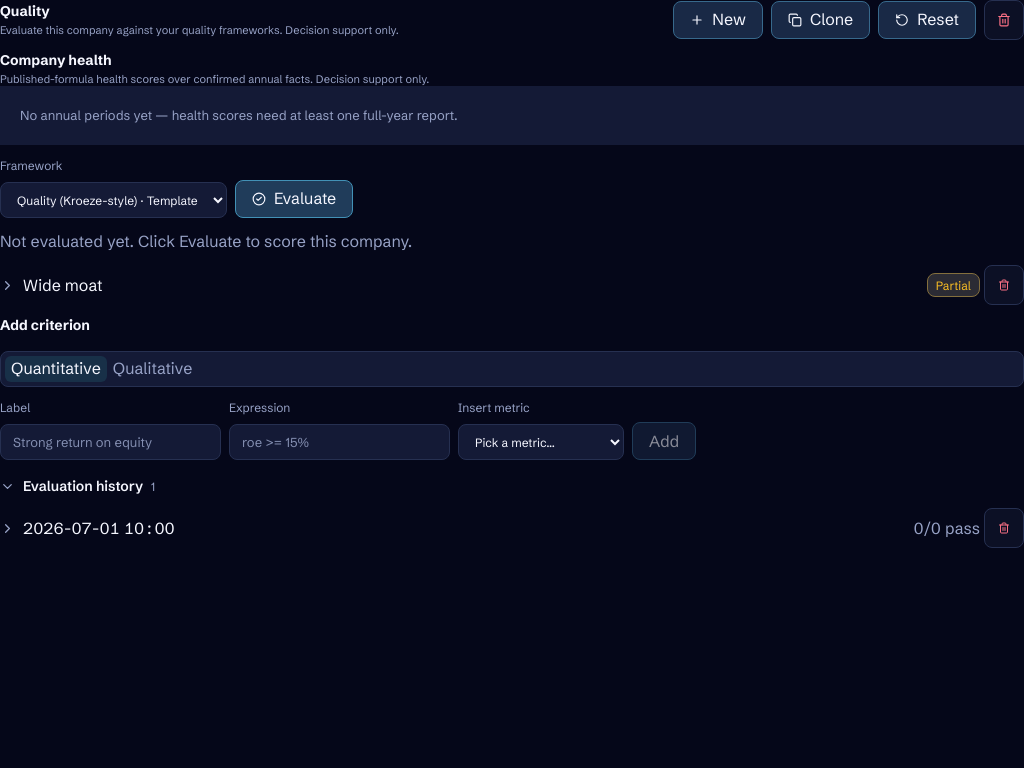
Test: QualityPanel › renders an MCP-written qualitative verdict and its reasoning
The width and height of the screenshot is (1024, 768).
Expected: the text "Wide moat" is shown, x1=23 y1=274 x2=102 y2=297
Expected: the text "Partial" is shown, x1=927 y1=273 x2=980 y2=297
Expanding reveals the agent's written reasoning alongside the guidance.
Click the button "Wide moat Partial": click(63, 285) x1=0 y1=273 x2=980 y2=297
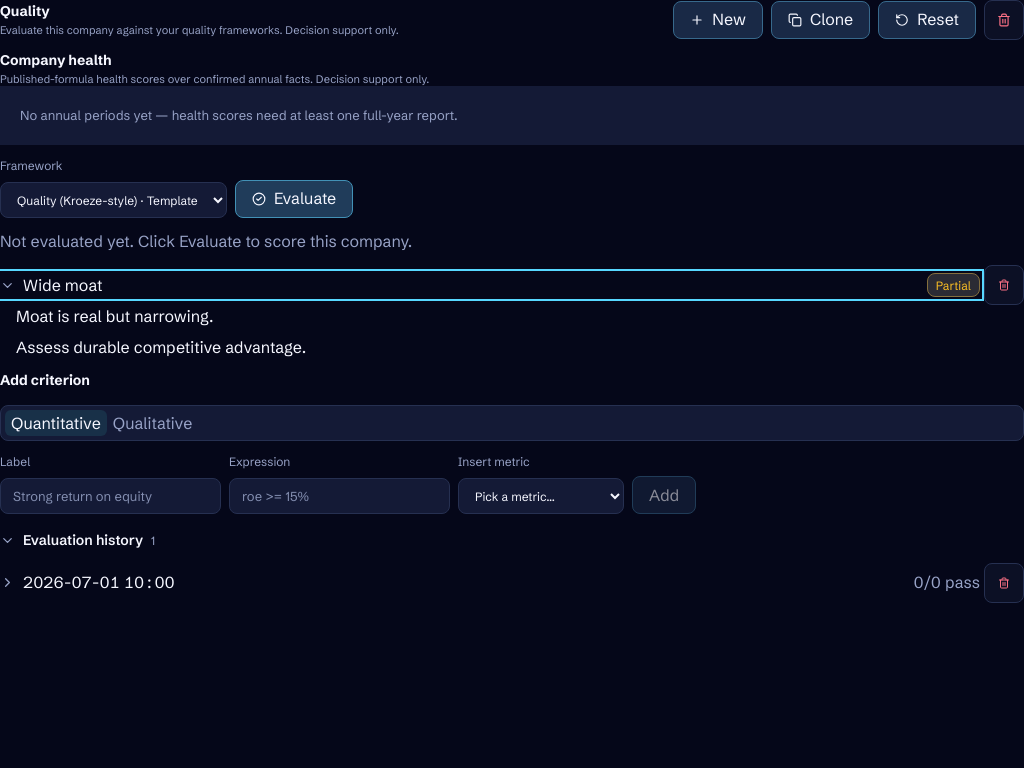
Expected: the text "Moat is real but narrowing." is shown, x1=16 y1=306 x2=214 y2=326
Expected: the text "Assess durable competitive advantage." is shown, x1=16 y1=337 x2=306 y2=357
